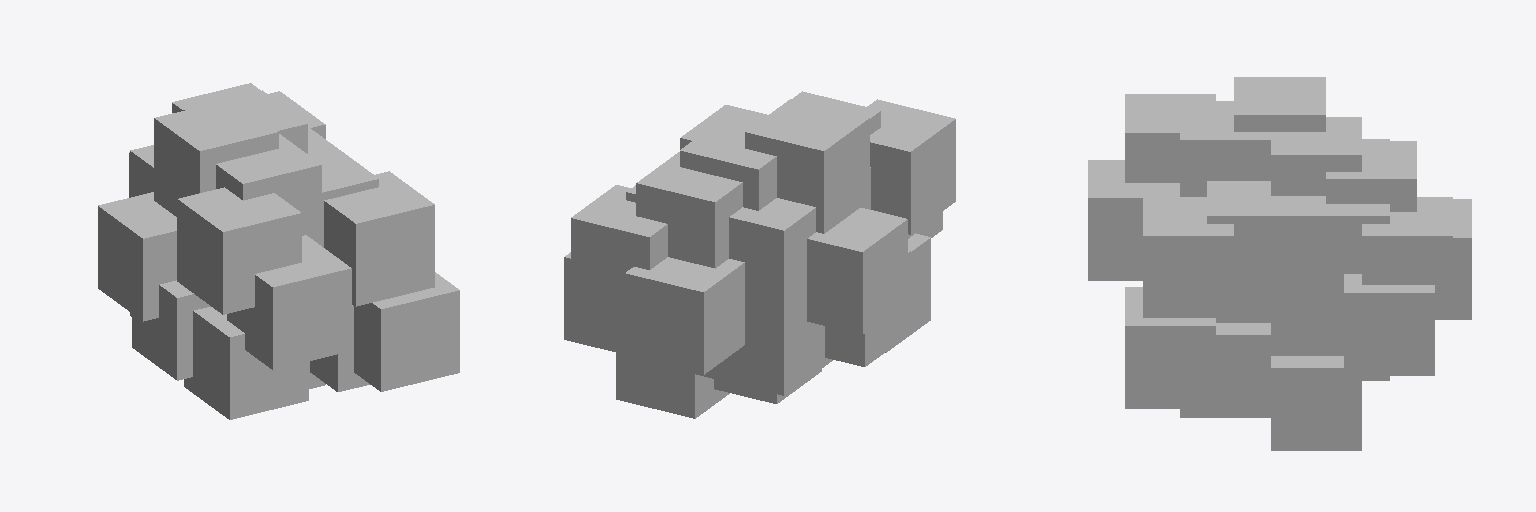
File: treetop1.obj
The picture shows the model from 3 angles: view 1: azimuth 30°, elevation 25°; view 2: azimuth 150°, elevation 25°; view 3: azimuth 270°, elevation 25°; orthographic projection.
Parts seen in each view (by area): view 1: Cube.018_Cube.020; view 2: Cube.018_Cube.020; view 3: Cube.018_Cube.020.
Part boxes in pixels (x1,y1,x2,y2): Cube.018_Cube.020: (98,83,459,419); Cube.018_Cube.020: (564,91,955,418); Cube.018_Cube.020: (1088,77,1471,450).
Bounding box in the file's own units: 4.32 × 4.59 × 5.67.